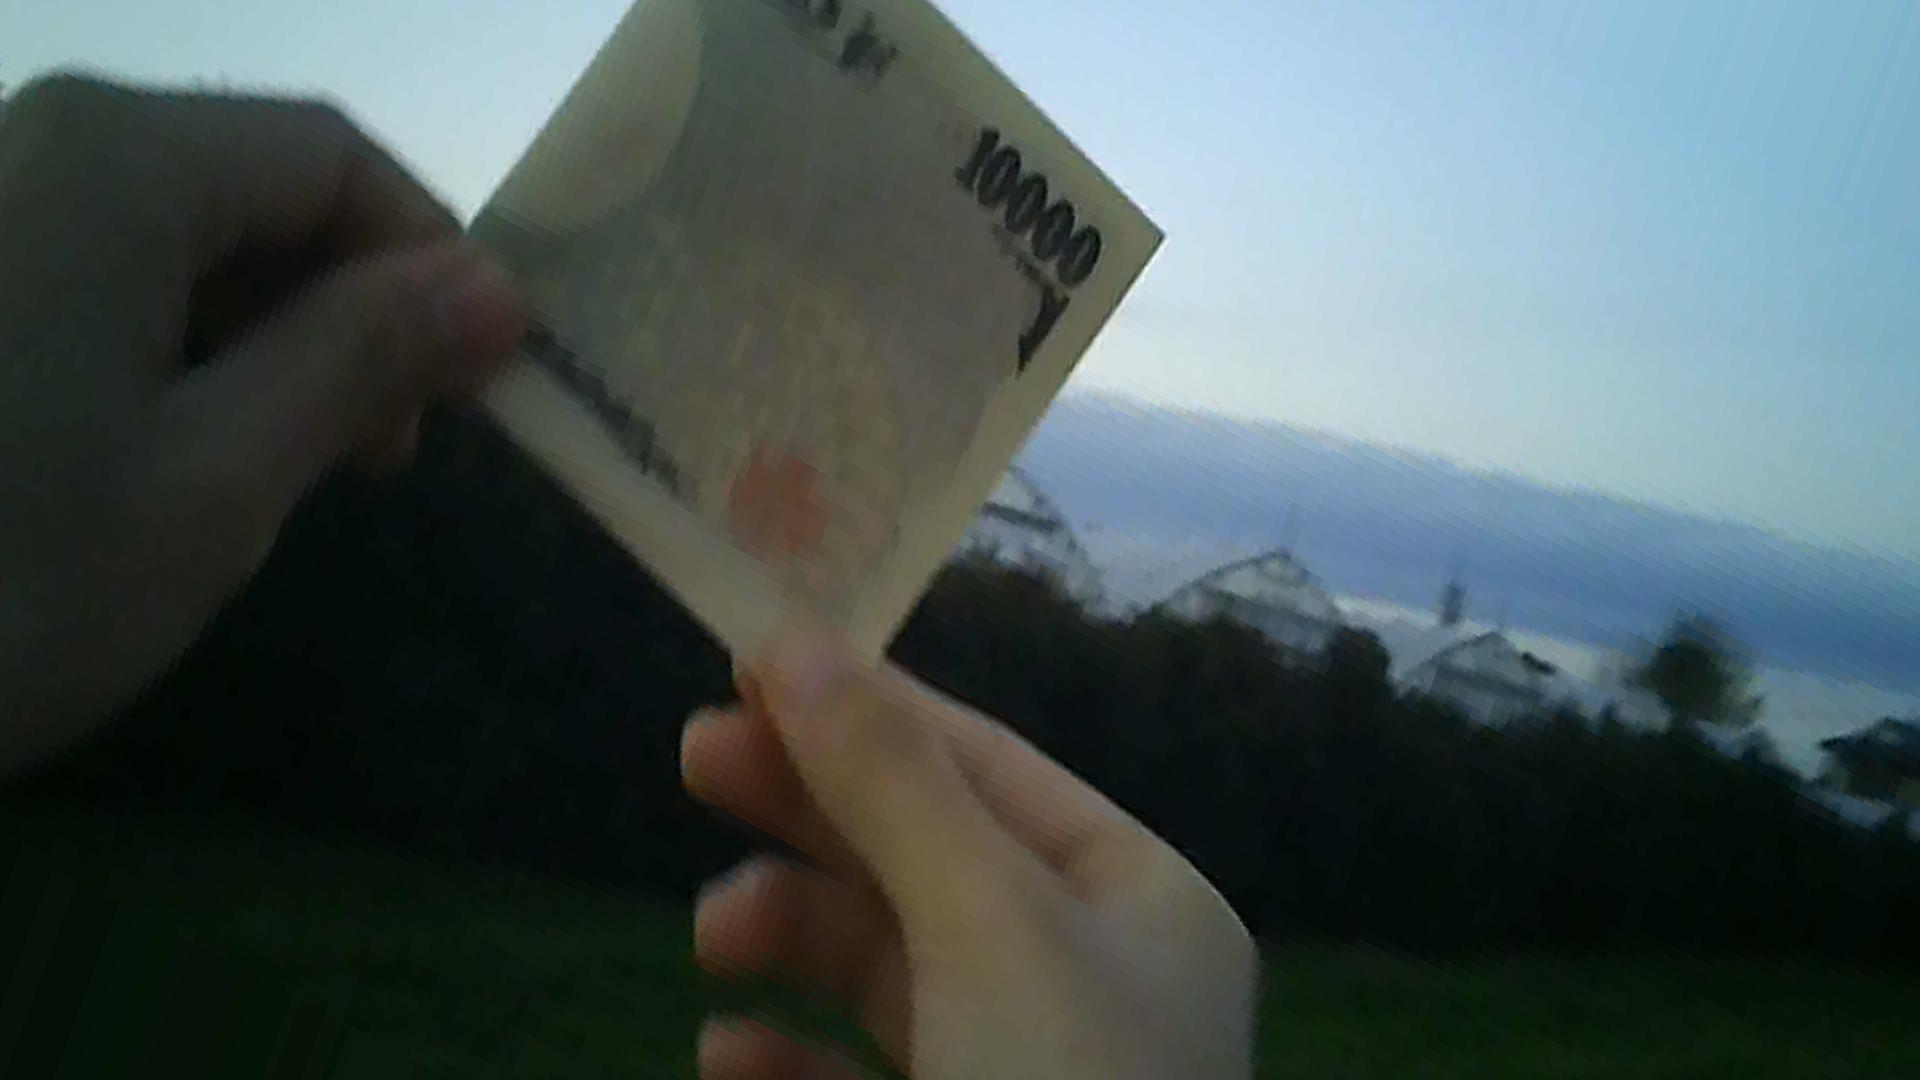10,000 Yen: (419, 25, 1174, 719)
